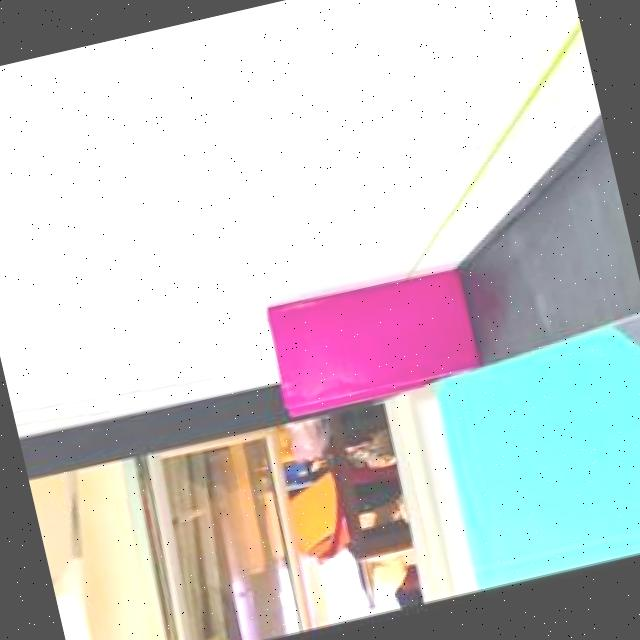xparking: (264, 269, 470, 406)
